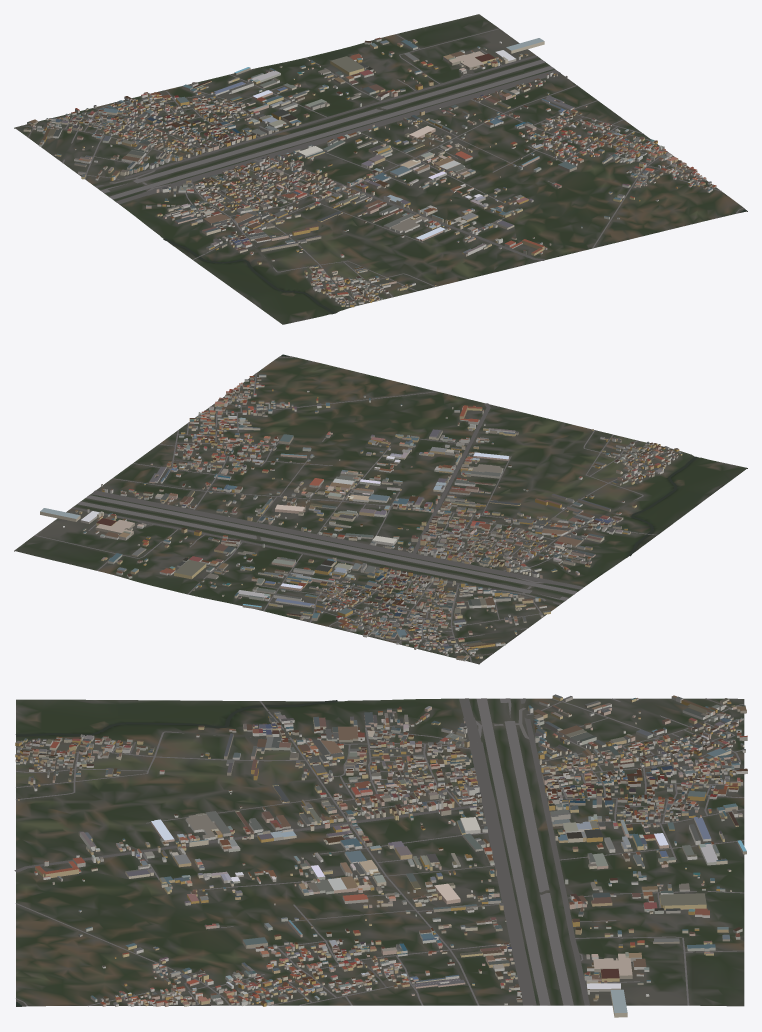
3 views of the same model, one above another, from view 1: azimuth 30°, elevation 25°; view 2: azimuth 150°, elevation 25°; view 3: azimuth 270°, elevation 25° (orthographic). The views are drawn at different scales.
Visible parts, largest first — view 1: ground, buildings, roads; view 2: ground, buildings, roads; view 3: ground, buildings, roads, water.
Part boxes in pixels (box(x1,y1,x2,y2)): ground: box(14, 14, 747, 324); buildings: box(23, 37, 716, 307); roads: box(22, 28, 743, 305); ground: box(14, 355, 747, 664); buildings: box(40, 374, 682, 661); roads: box(34, 357, 673, 662); ground: box(16, 698, 744, 1006); buildings: box(15, 694, 747, 1017); roads: box(14, 698, 744, 1006); water: box(15, 700, 337, 1006).
Bounding box in the file's own units: 1460 × 28.6 × 1413.
